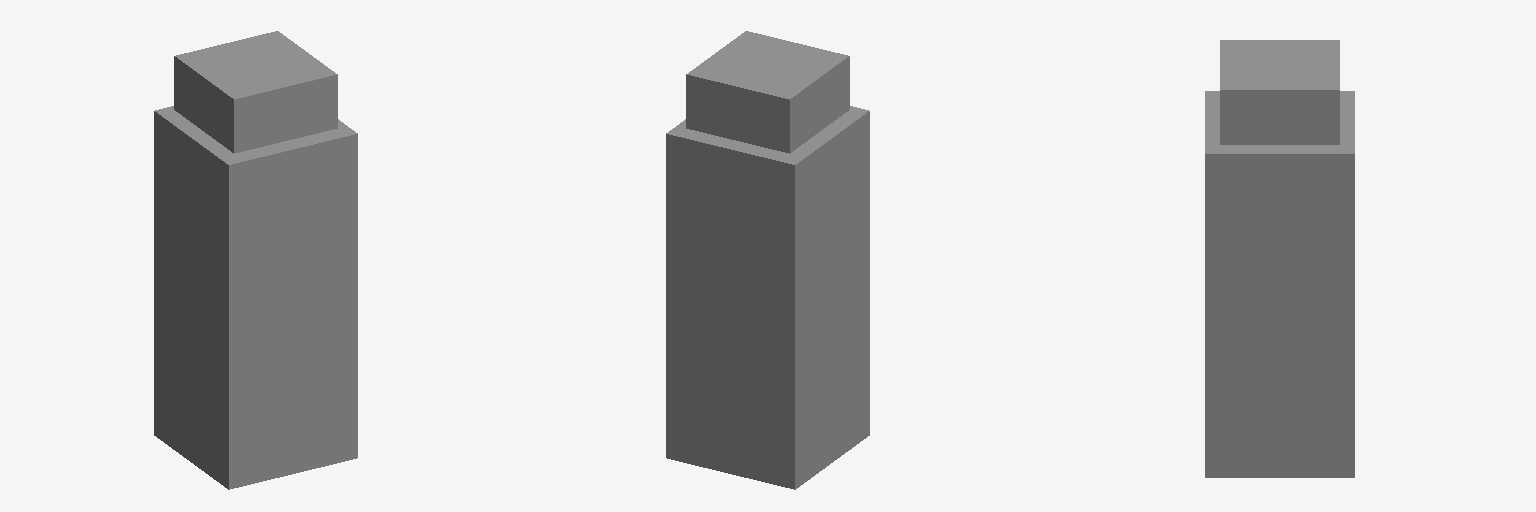
Rendered from podiums.obj.
3 renders of one model, left to right at view 1: azimuth 30°, elevation 25°; view 2: azimuth 150°, elevation 25°; view 3: azimuth 270°, elevation 25°, orthographic.
Visible parts, largest first — view 1: podiums; view 2: podiums; view 3: podiums.
Boxes of the visible parts, x1,y1,x2,y2 form: podiums: [154, 31, 357, 489]; podiums: [666, 31, 869, 489]; podiums: [1205, 40, 1354, 477].
Bounding box in the file's own units: 0.5 × 1.41 × 0.5.